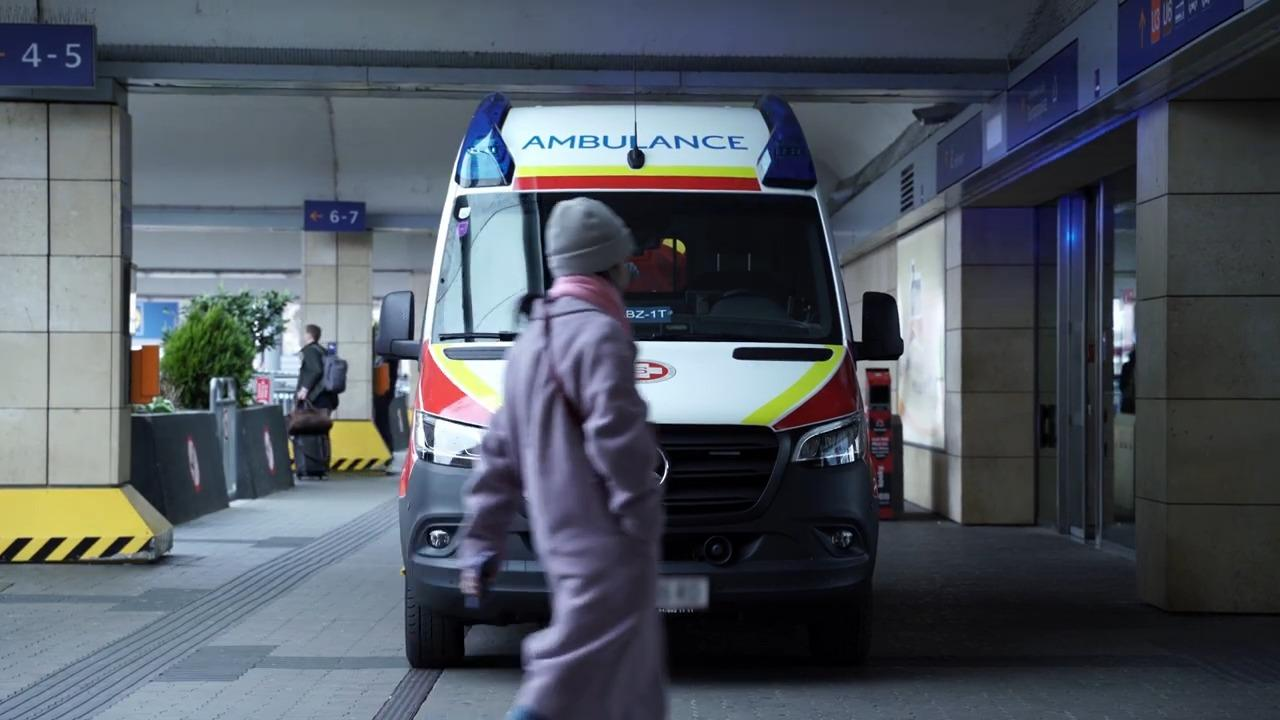car: (381, 88, 902, 667)
